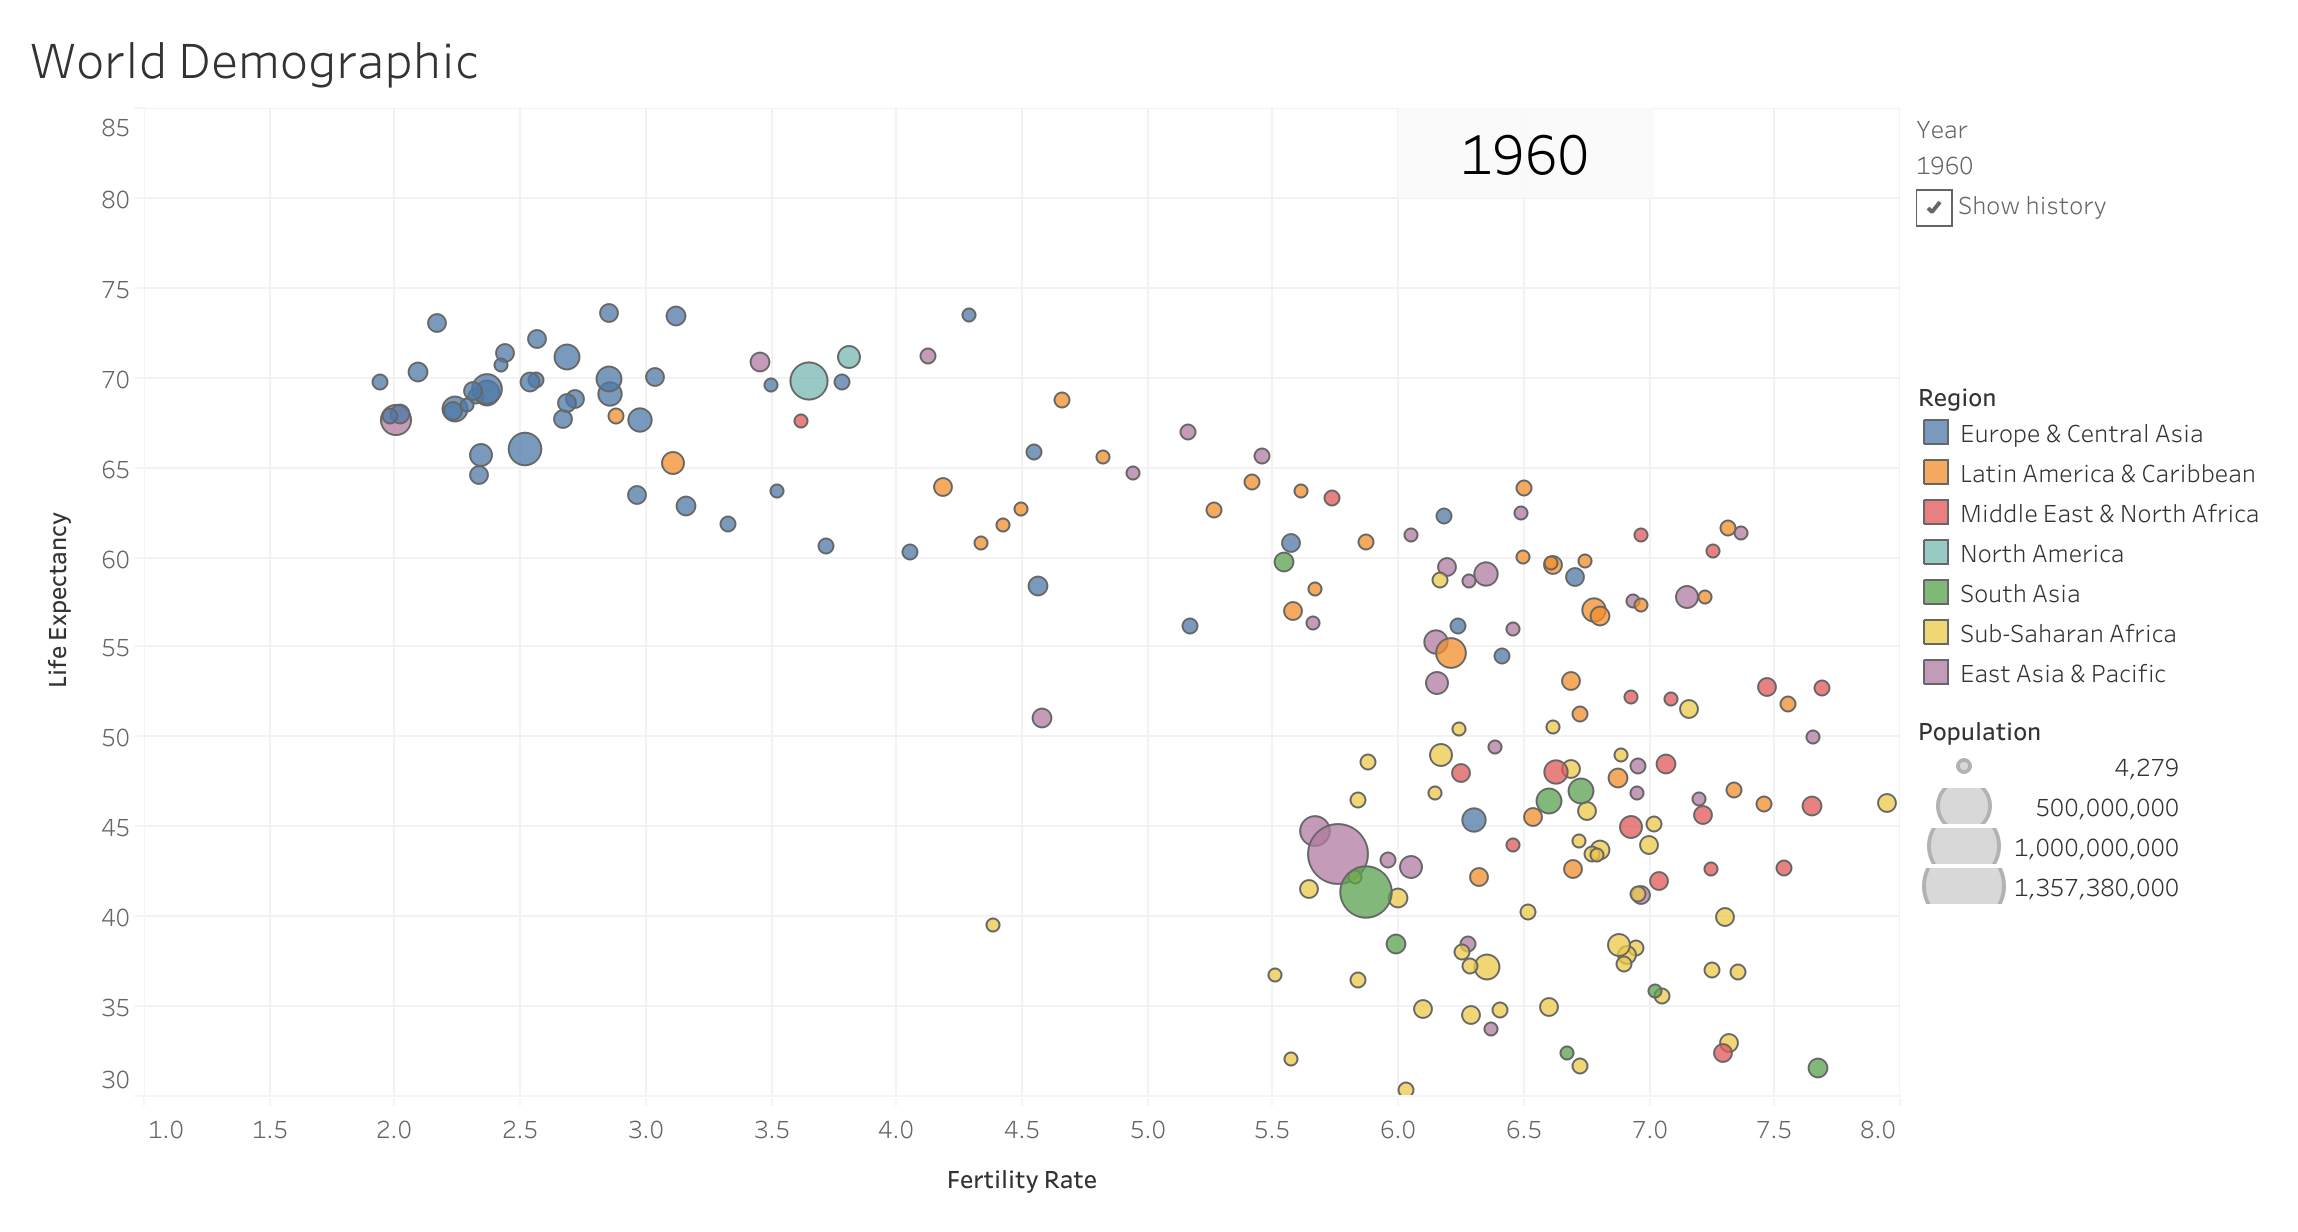

Layout of this report page (visuals, bound fields, positions):
{"tool":"tableau","page":{"name":"World Demographic","canvas":[1000,1000],"units":"permille","ordinal":0},"visuals":[{"type":"title","box":[7,9.9,986.1,51.9]},{"type":"worksheet","title":"Animation","mark":"Circle","rows":["Pivot Field Values"],"cols":["Pivot Field Values"],"box":[7,61.8,822.6,928.3]},{"type":"currpage","title":"Animation","box":[829.6,61.8,163.5,136]},{"type":"legend","title":"Animation","param":"[federated.1l6eep11kz4sob146nep510s5qqv].[none:Region:nk]","box":[829.6,197.8,163.5,205.2]},{"type":"legend","title":"Animation","param":"[federated.0egrmkv1eagrbb19ru6tj0v9oj73].[sum:Pivot Field Values:qk]","box":[829.6,403,163.5,131]}]}

Visuals, with their boxes on the dashboard's canvas, which has no fixed pixel size, in thousandths of its width and height (x1, y1, x2, y2). These are canvas units, not pixel positions in the 2298x1232 screenshot, which may show the page scaled, cropped or inside an application window:
title: x1=7, y1=10, x2=993, y2=62
"Animation" worksheet (Circle marks): x1=7, y1=62, x2=830, y2=990
"Animation" currpage: x1=830, y1=62, x2=993, y2=198
"Animation" legend: x1=830, y1=198, x2=993, y2=403
"Animation" legend: x1=830, y1=403, x2=993, y2=534
